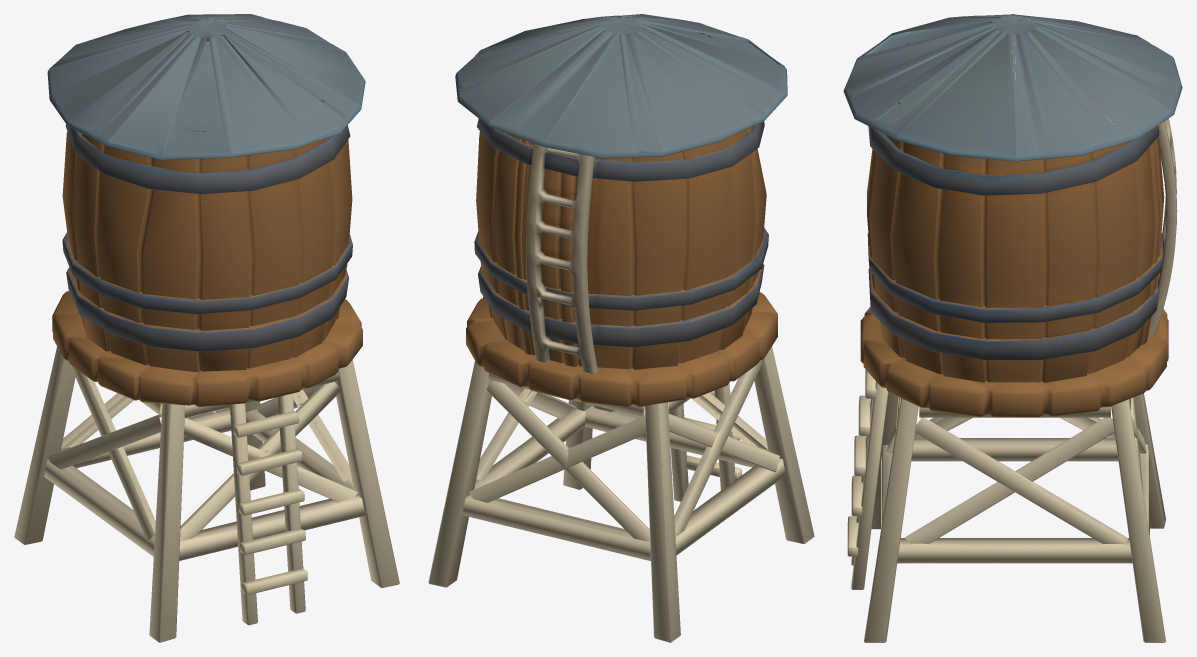
File: wl_water_tower.glb
The picture shows the model from 3 angles, left to right: view 1: azimuth 30°, elevation 25°; view 2: azimuth 150°, elevation 25°; view 3: azimuth 270°, elevation 25°; orthographic projection. The views are drawn at different scales.
Parts seen in each view (by area): view 1: wl_water_tower; view 2: wl_water_tower; view 3: wl_water_tower.
Part boxes in pixels (x1,y1,x2,y2): wl_water_tower: (14,14,399,642); wl_water_tower: (428,14,814,642); wl_water_tower: (843,14,1182,642).
Bounding box in the file's own units: 0.5532 × 0.9995 × 0.5513.
Materials: 1 (1 with a texture image).
